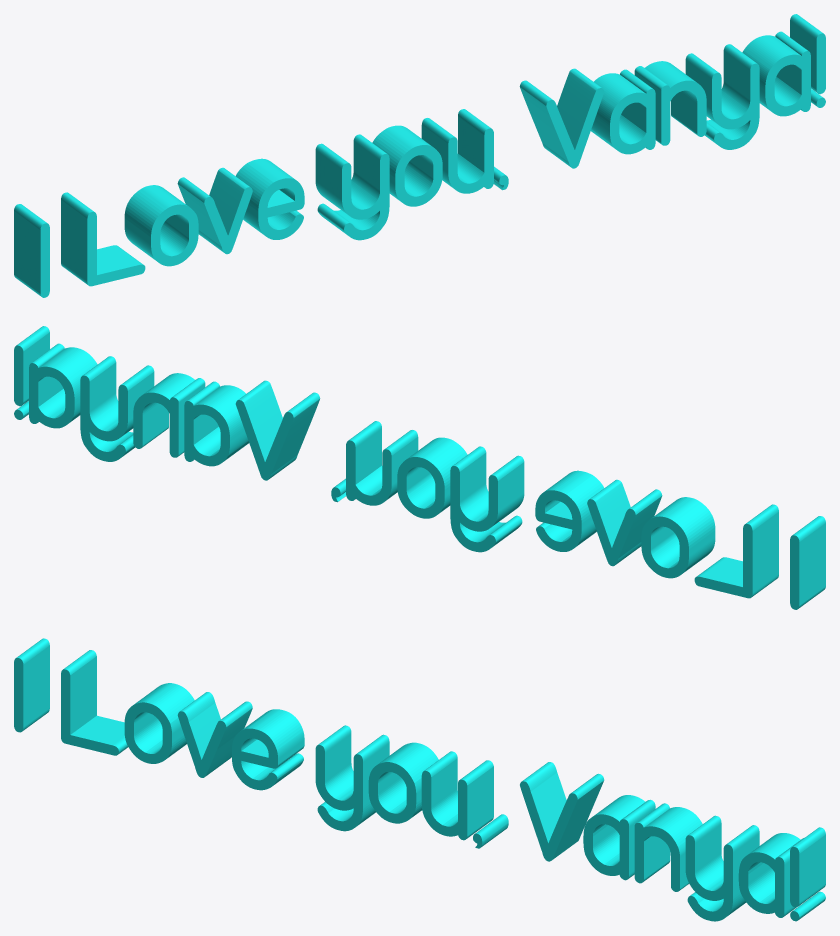
File: asset.gltf
3 renders of one model, top to bottom at view 1: azimuth 30°, elevation 25°; view 2: azimuth 150°, elevation 25°; view 3: azimuth 330°, elevation 25°, orthographic.
Bounding box in the file's own units: 171 × 19.67 × 10.
